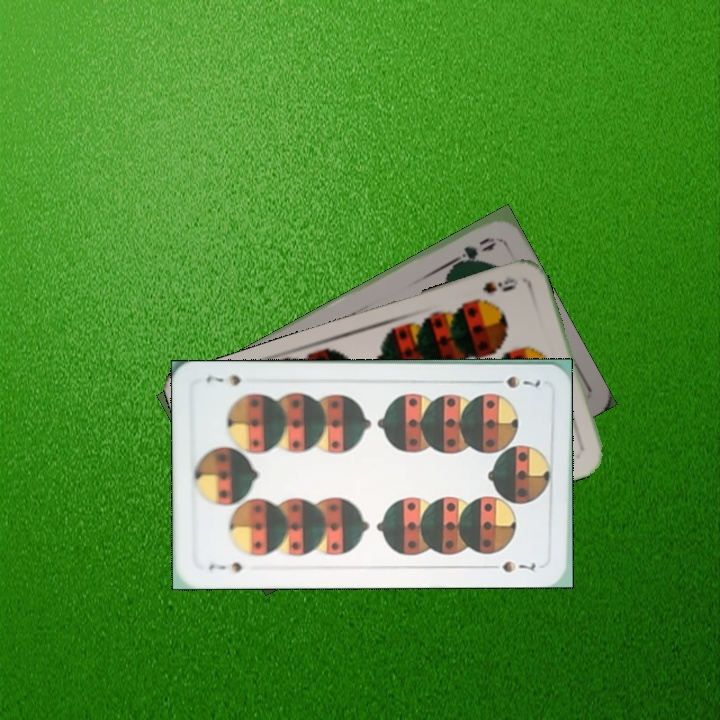GO: (443, 233, 500, 273)
S7: (486, 372, 542, 390), (204, 558, 244, 574)
S9: (466, 272, 521, 308)
